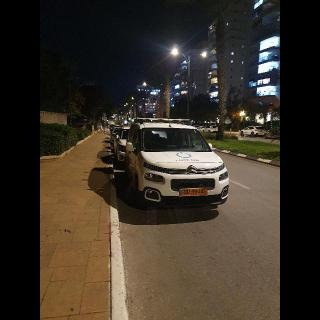LicensePlate: (183, 188, 207, 194)
